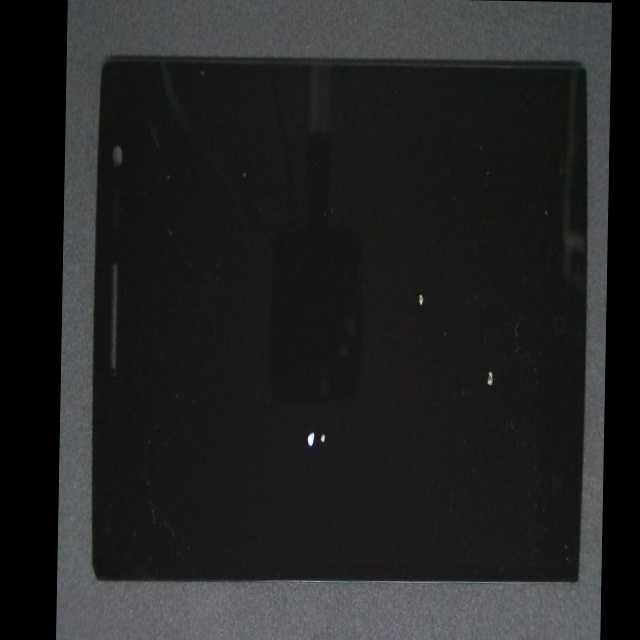stain: (255, 238, 608, 608), (232, 110, 597, 450), (211, 219, 460, 640)
